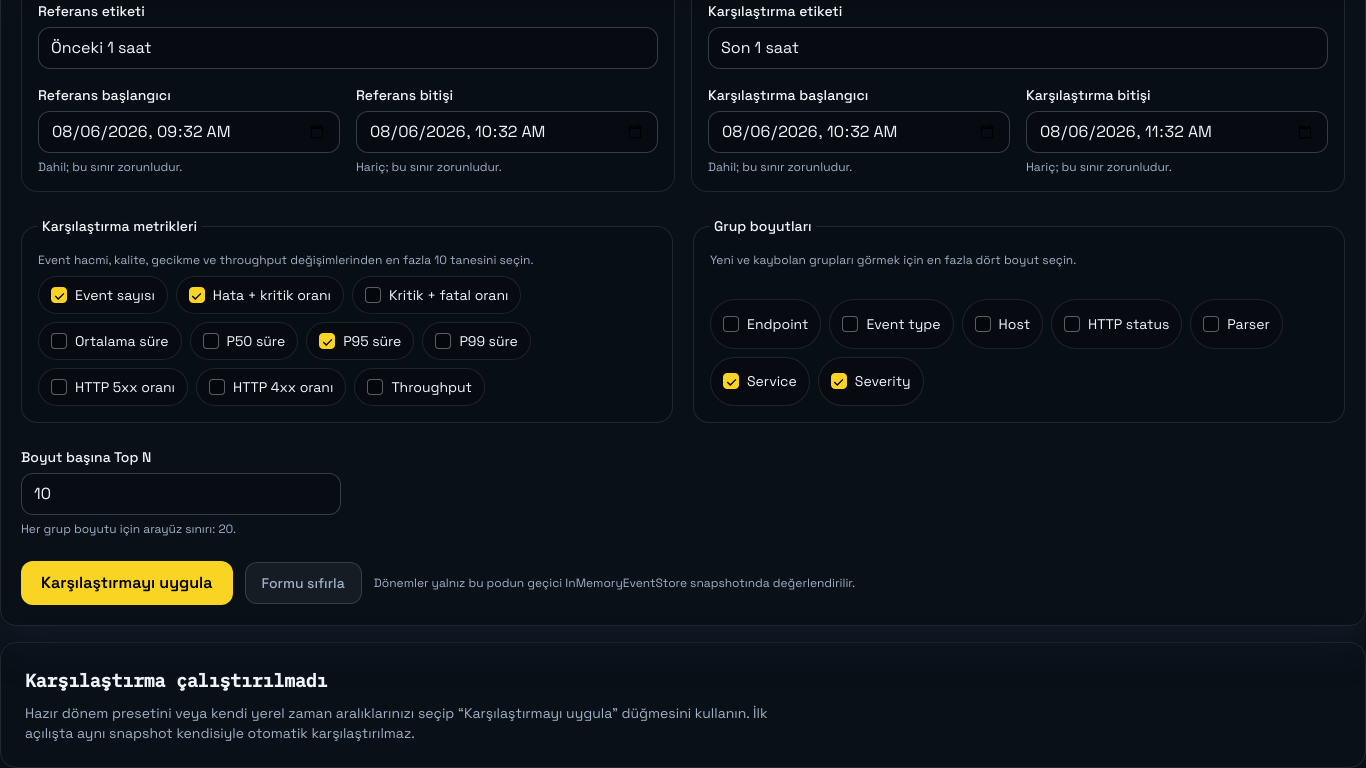
Test case: ComparisonAnalysisPage › renders ratio, percentage-point and relative changes with findings and group movement
(page scrolled)
Click the button "Karşılaştırmayı uygula".
click(127, 583)  # box [21, 561, 232, 605]
(page scrolled)
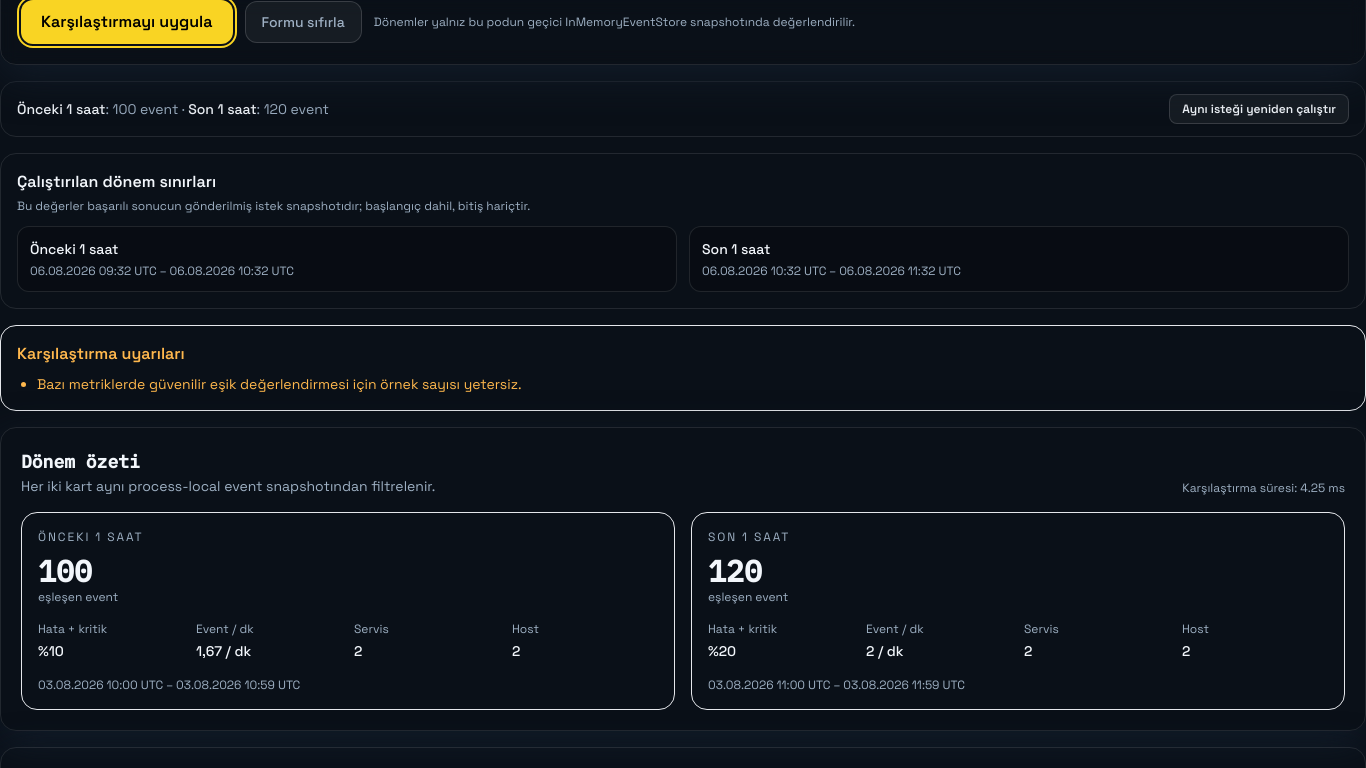
Expected: the heading "Dönem özeti" is shown, [21, 450, 140, 473]
Expected: the heading "Çalıştırılan dönem sınırları" is shown, [17, 171, 216, 192]
Expected: the text "%10" is shown, [38, 642, 64, 660]
